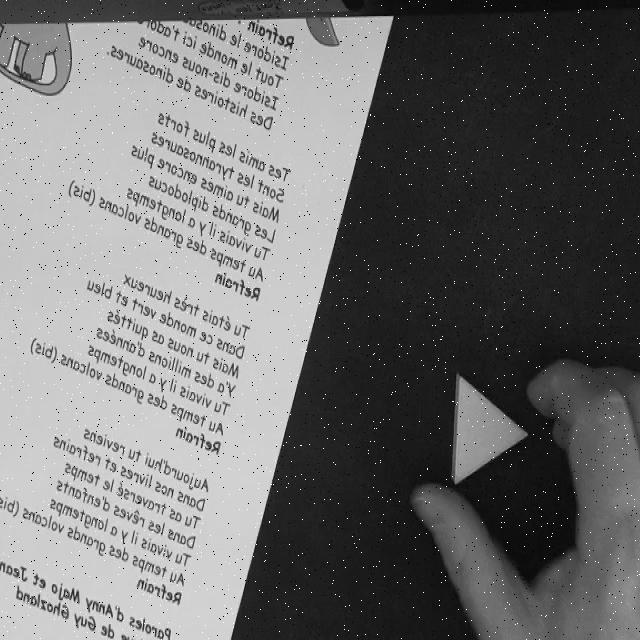triangle: (448, 370, 530, 486)
